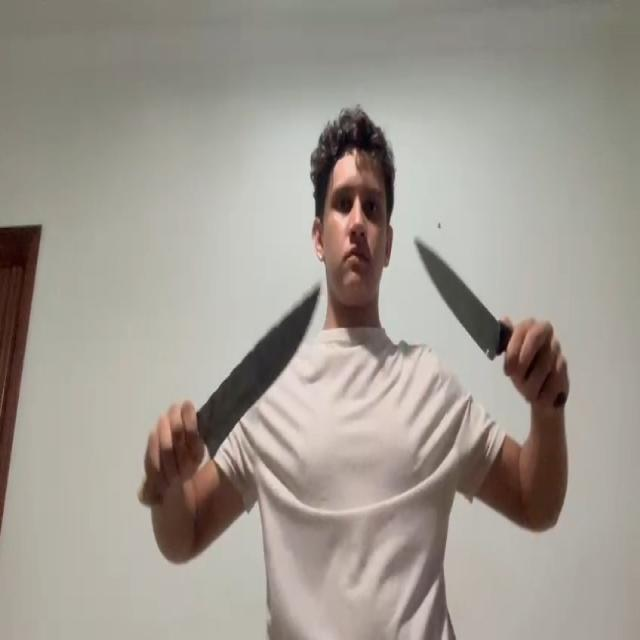knife: (199, 288, 319, 450), (414, 237, 498, 358)
